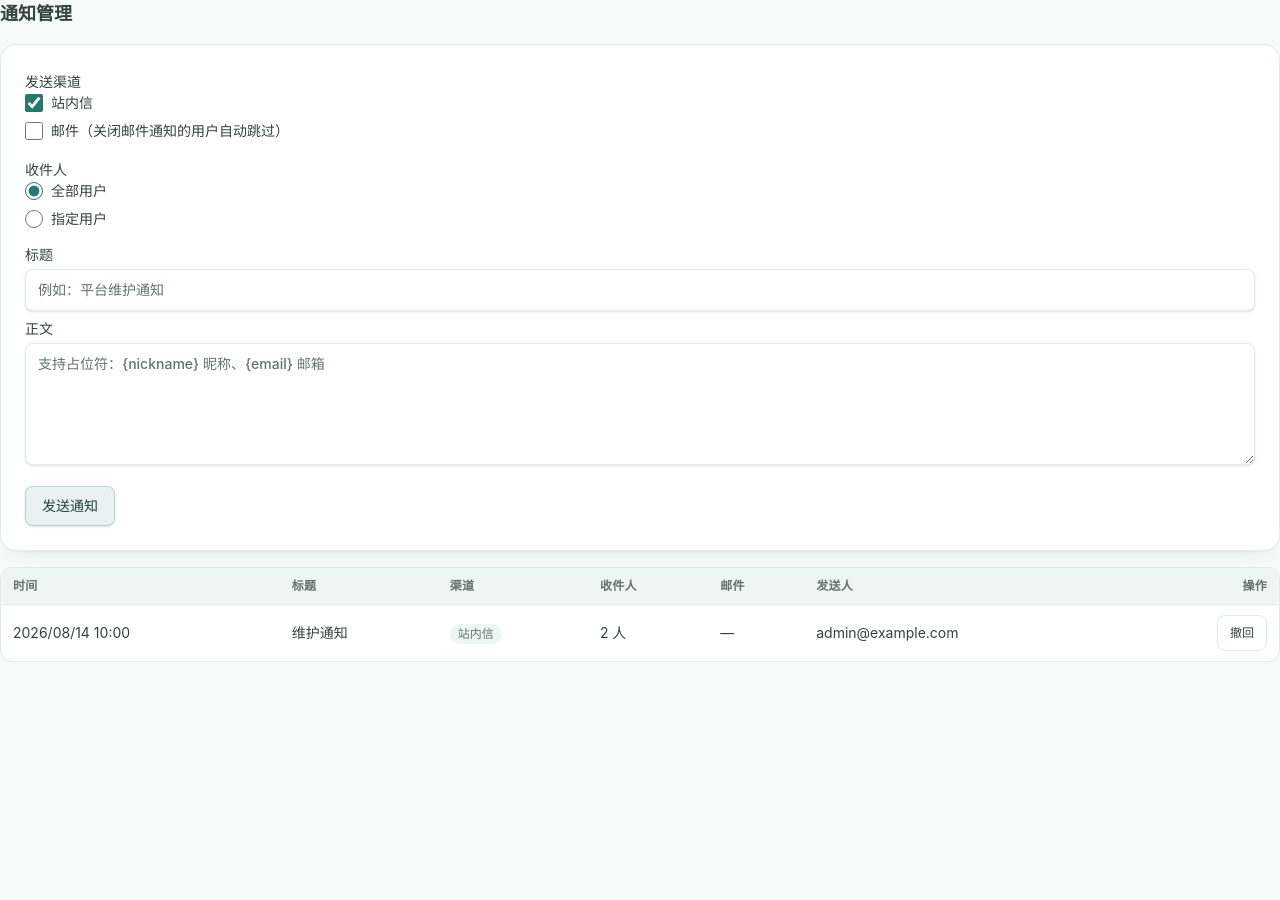
Test: AdminNotificationsPanel › 撤回站内信并刷新历史
expect the text "维护通知" is shown: met, box x1=280 y1=604 x2=438 y2=661
What coordinates should you click on to do the following:
click the button "撤回"
I would click on:
 (1242, 633)
Its box is x1=1217 y1=615 x2=1267 y2=651.
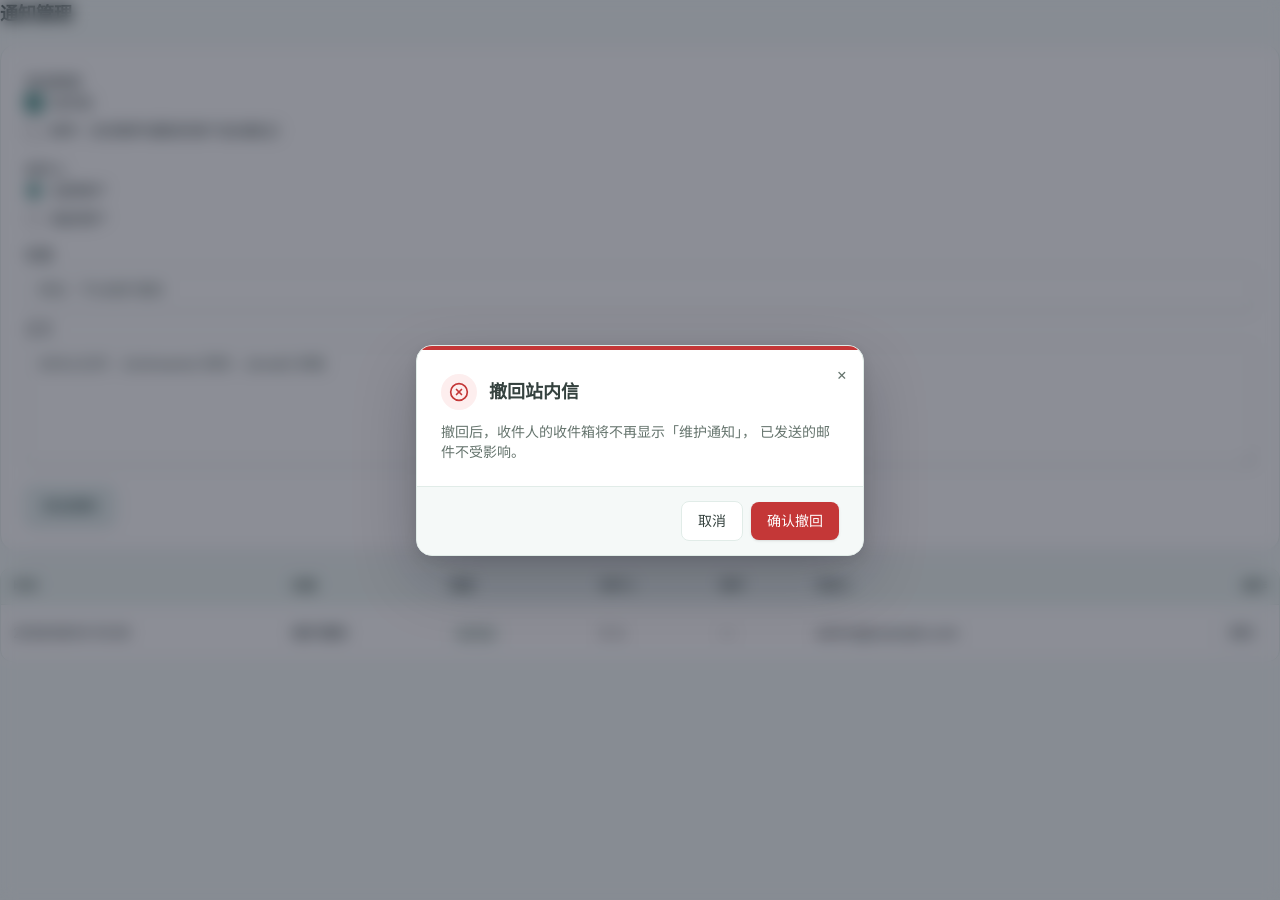
What coordinates should you click on to do the following:
click the button "确认撤回"
I would click on:
 (795, 520)
Its box is x1=751 y1=502 x2=839 y2=540.
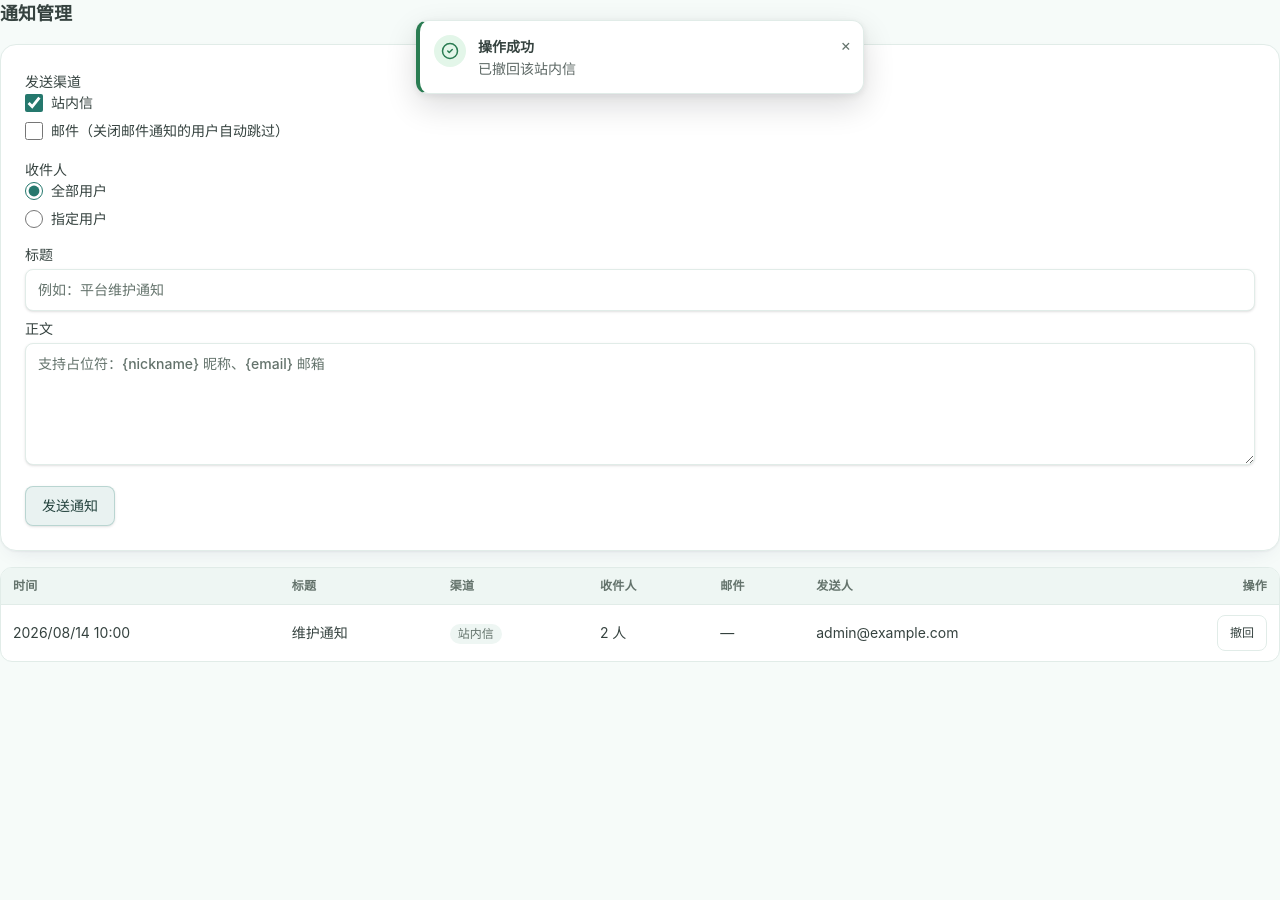
expect the dialog is gone: met
